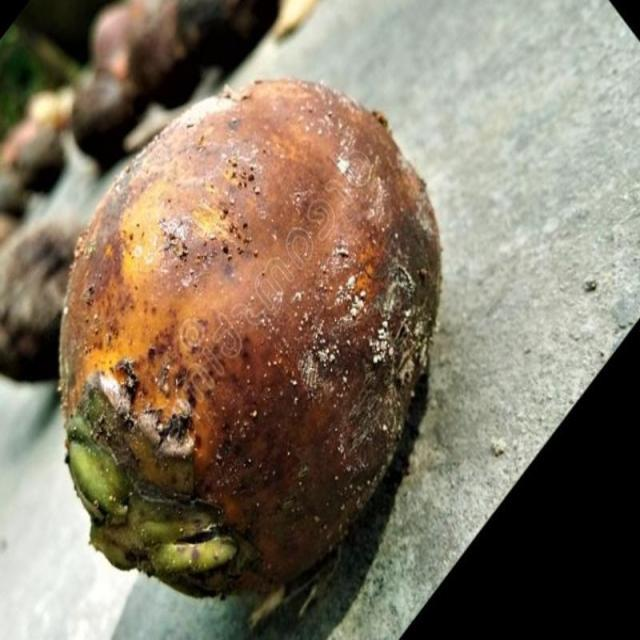damaged: (57, 78, 443, 604)
